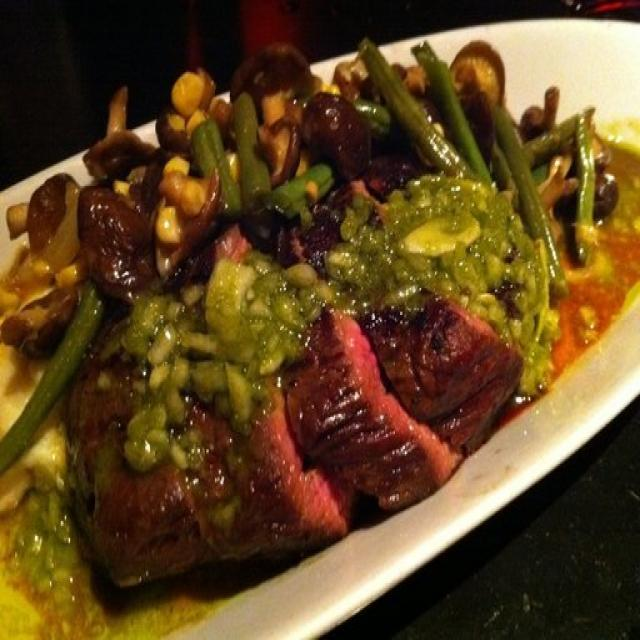Steak: (75, 241, 513, 579)
